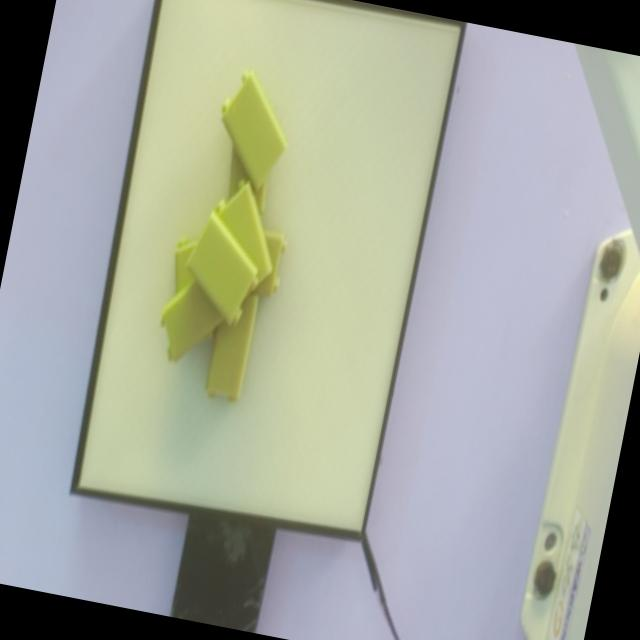bateria: (187, 211, 258, 327), (221, 71, 287, 191)
mesa: (70, 0, 467, 544)
